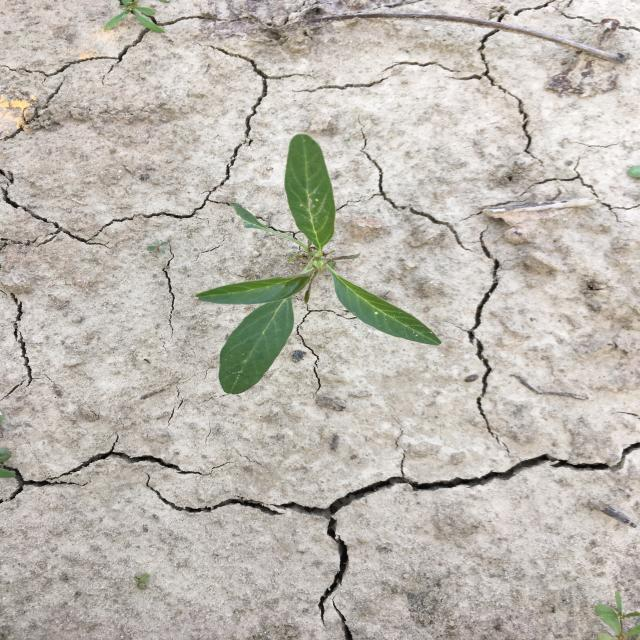Waterhemp: (190, 132, 444, 396)
